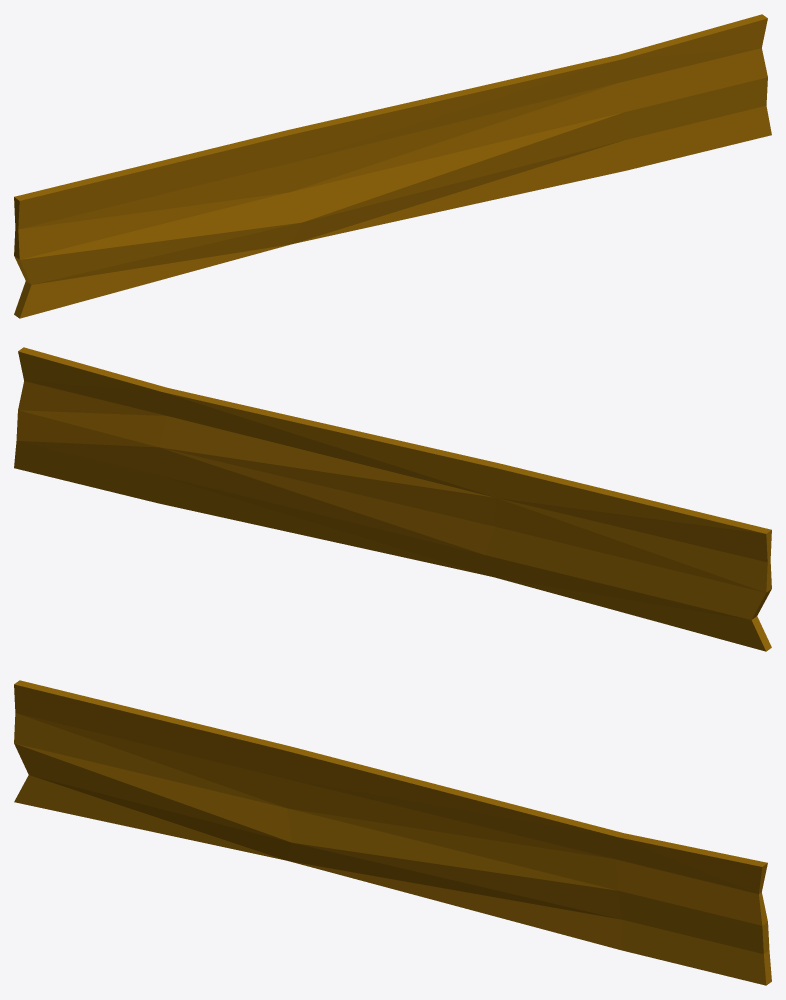
File: Plank02.fbx
3 views of the same model, one above another, from view 1: azimuth 30°, elevation 25°; view 2: azimuth 150°, elevation 25°; view 3: azimuth 330°, elevation 25° (orthographic).
Visible parts, largest first — view 1: Plank2; view 2: Plank2; view 3: Plank2.
Boxes of the visible parts, x1,y1,x2,y2 form: Plank2: [14, 14, 771, 318]; Plank2: [14, 347, 771, 651]; Plank2: [14, 680, 771, 985].
Size of the model in its own units: 76.44 by 11.43 by 1.87.
Materials: 1 (1 with a texture image).
